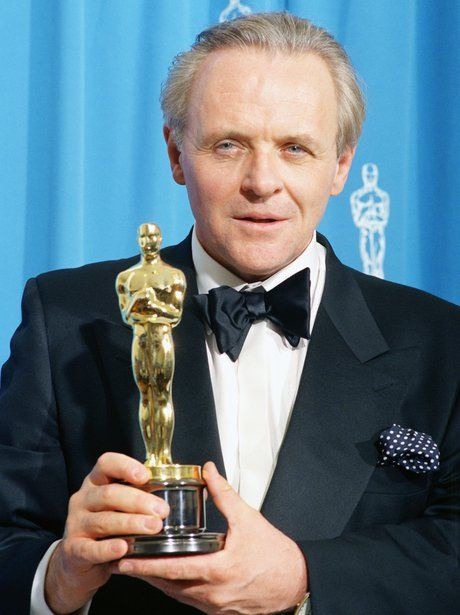hand: (133, 469, 312, 612)
